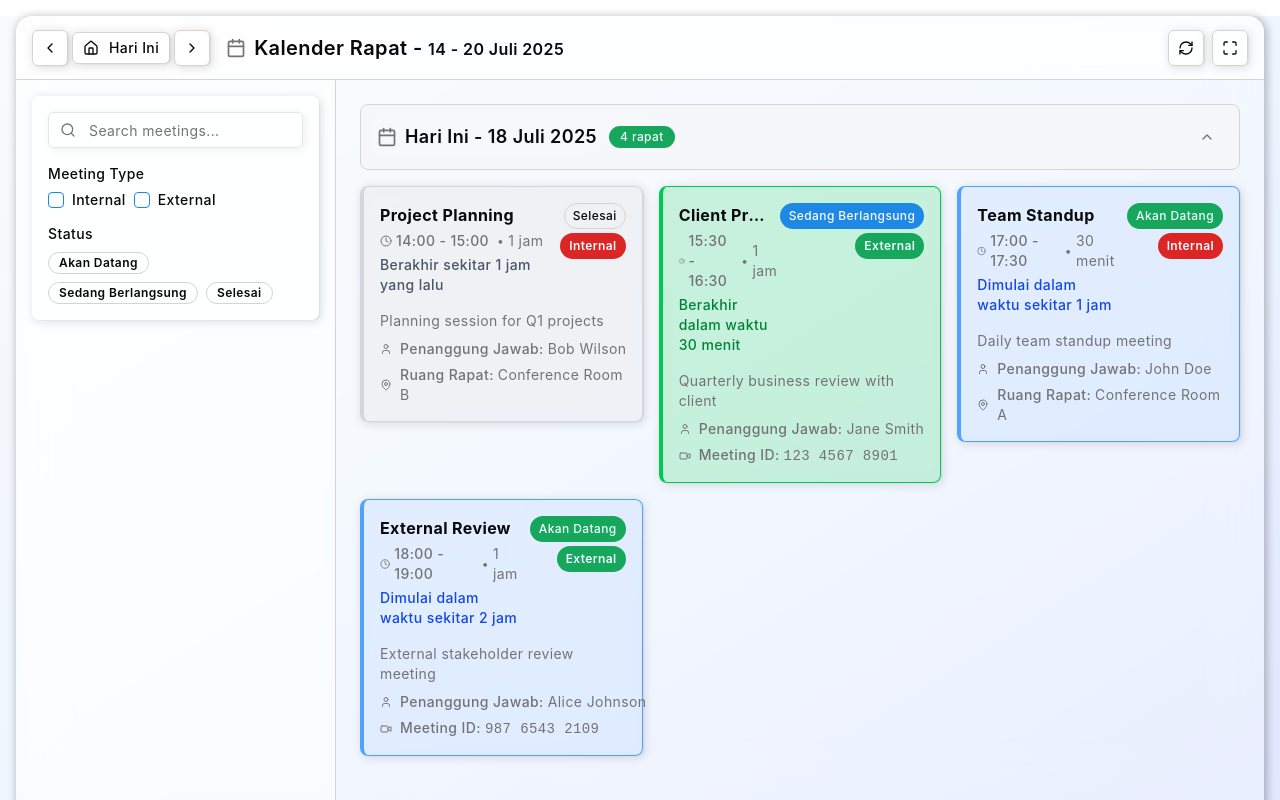
Test case: PublicCalendar Integration Tests › Refresh Functionality › should refresh data when refresh button is clicked
Expected: the heading "Team Standup" is shown, 977,205 -> 1095,225
Click the button titled "Refresh data".
click(1186, 48)  # box 1168,30 -> 1204,66
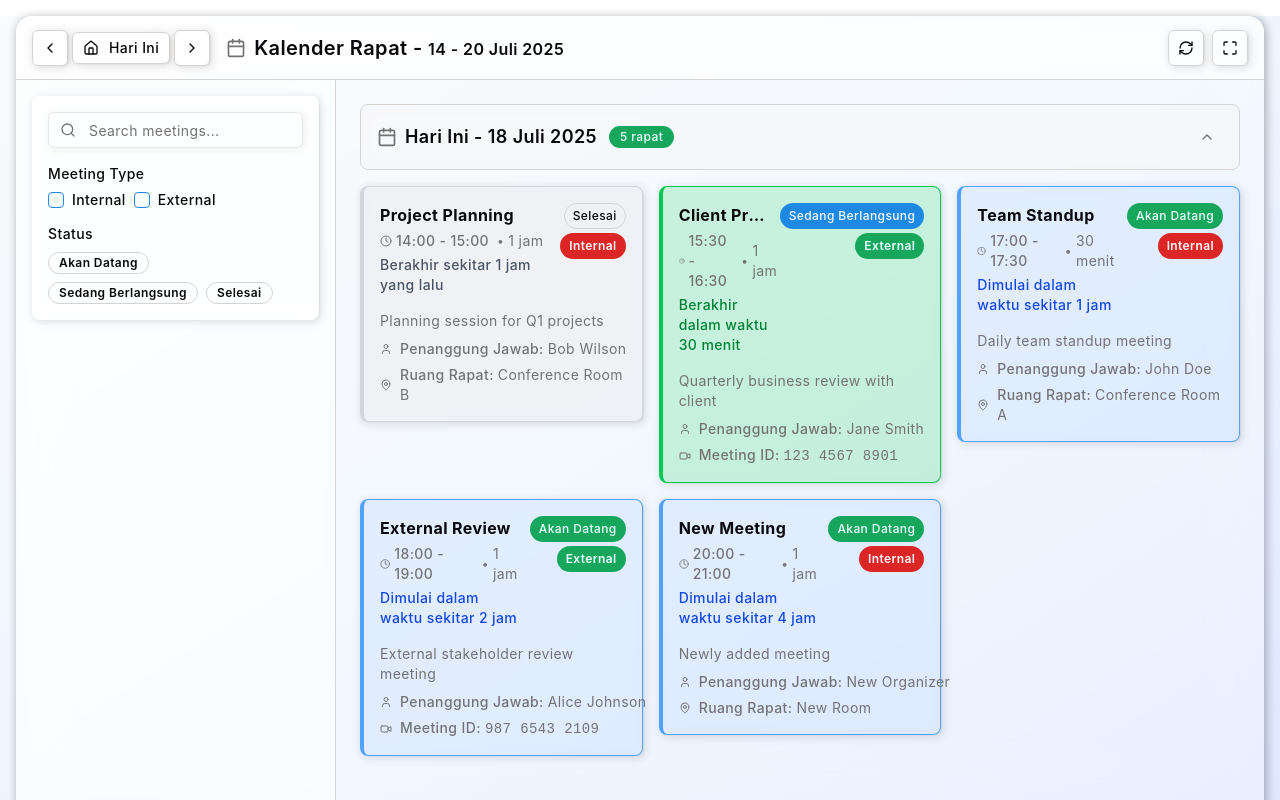
Expected: the heading "New Meeting" is shown, 679,518 -> 786,538
